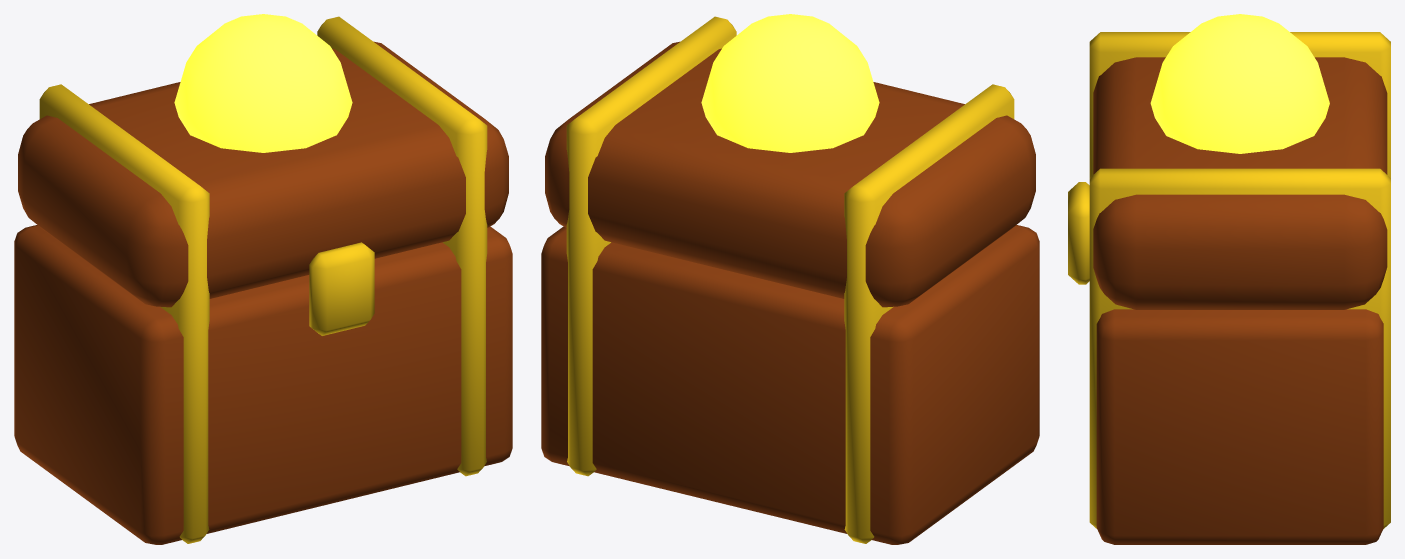
File: chest.glb
The picture shows the model from 3 angles, left to right: view 1: azimuth 30°, elevation 25°; view 2: azimuth 150°, elevation 25°; view 3: azimuth 270°, elevation 25°; orthographic projection.
Parts seen in each view (by area): view 1: Box, Lid, Shine, Band, Band.001, Lock; view 2: Box, Lid, Shine, Band, Band.001; view 3: Box, Lid, Shine, Band.001, Band, Lock.
Part boxes in pixels (box(x1,y1,x2,y2)): Box: box(14, 225, 512, 544); Lid: box(18, 41, 508, 307); Shine: box(174, 14, 352, 152); Band: box(39, 84, 209, 543); Band.001: box(317, 16, 487, 476); Lock: box(309, 242, 374, 335); Box: box(541, 225, 1039, 544); Lid: box(545, 41, 1035, 307); Shine: box(701, 14, 879, 152); Band: box(844, 84, 1014, 543); Band.001: box(566, 16, 736, 476); Box: box(1096, 309, 1383, 544); Lid: box(1093, 57, 1387, 309); Shine: box(1150, 14, 1329, 153); Band.001: box(1089, 168, 1390, 529); Band: box(1089, 32, 1390, 177); Lock: box(1068, 182, 1089, 284).
Size of the model in its own units: 1.22 by 1.35 by 0.9.
